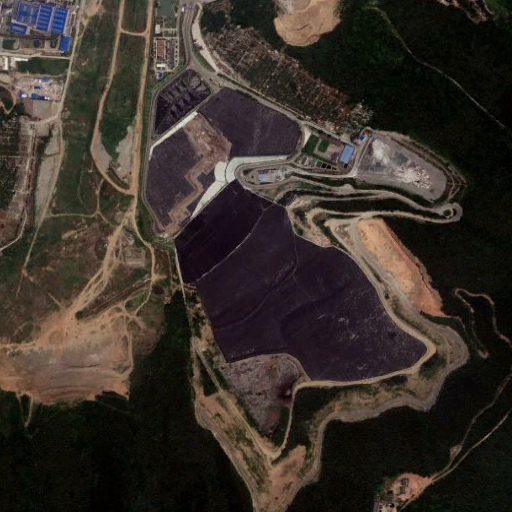lf: (174, 183, 433, 456), (139, 86, 304, 229)
